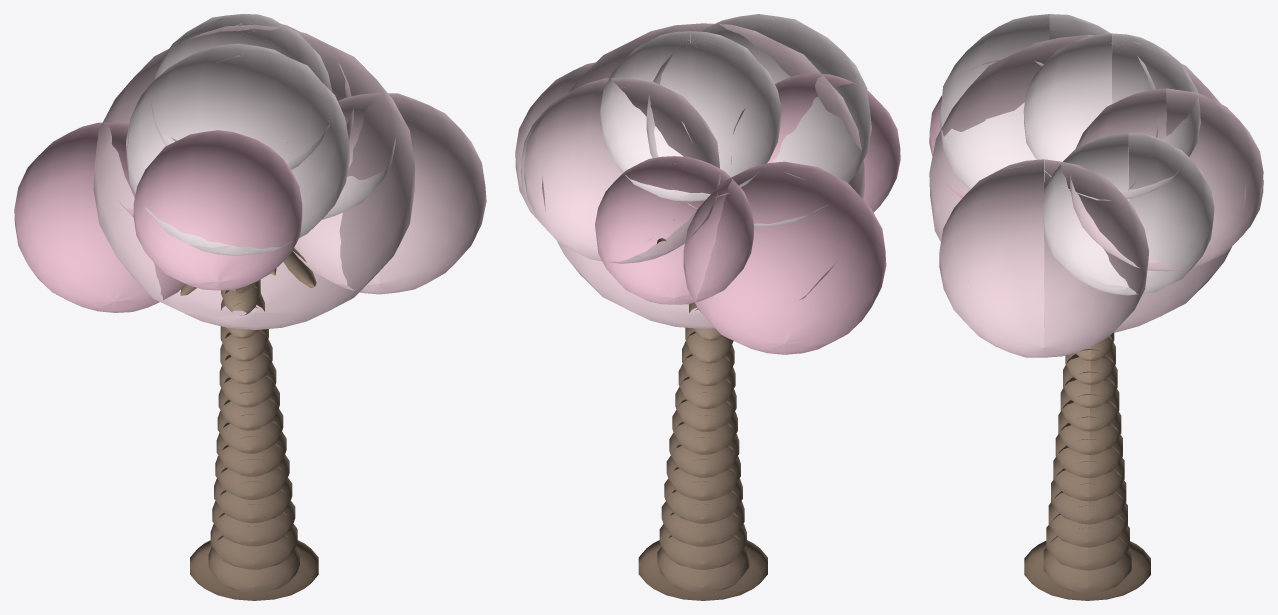
The model's file is sakura_tree.glb.
The picture shows the model from 3 angles, left to right: view 1: azimuth 30°, elevation 25°; view 2: azimuth 150°, elevation 25°; view 3: azimuth 270°, elevation 25°; orthographic projection. The views are drawn at different scales.
Parts seen in each view (by area): view 1: chinchilla; view 2: chinchilla; view 3: chinchilla.
Part boxes in pixels (box(x1,y1,x2,y2)): chinchilla: box(14, 14, 486, 600); chinchilla: box(515, 14, 900, 600); chinchilla: box(929, 14, 1263, 600).
Size of the model in its own units: 3.31 by 4.43 by 2.46.
